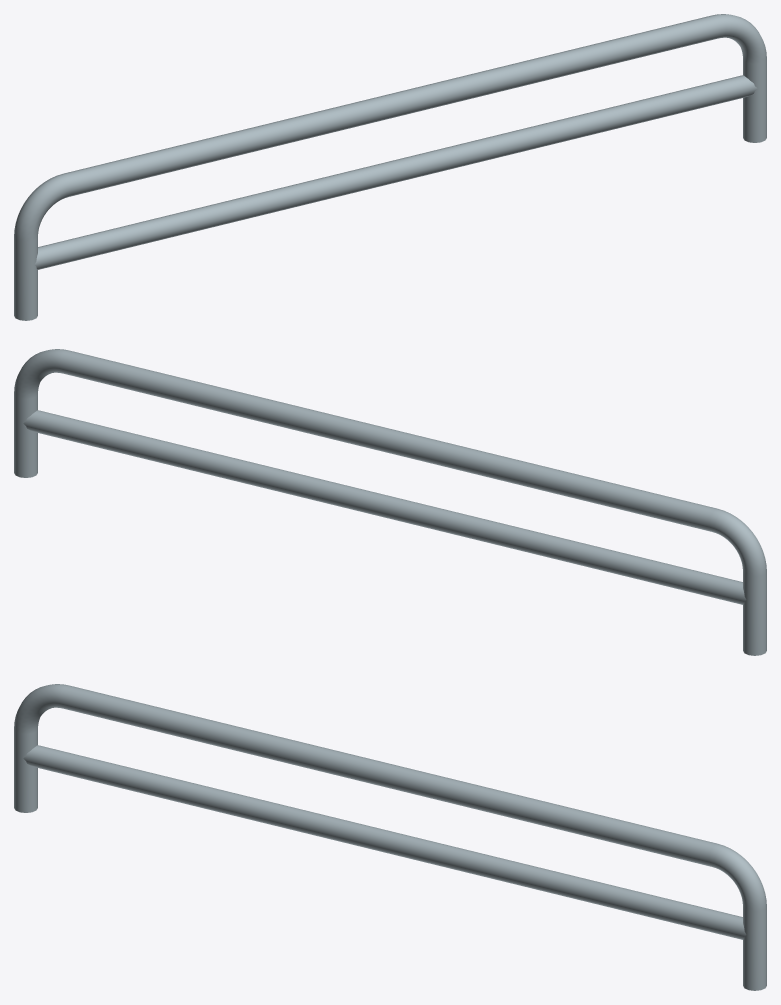
Rendered from barrierLarge-col.glb.
3 views of the same model, one above another, from view 1: azimuth 30°, elevation 25°; view 2: azimuth 150°, elevation 25°; view 3: azimuth 330°, elevation 25° (orthographic).
Visible parts, largest first — view 1: barrierLarge-col; view 2: barrierLarge-col; view 3: barrierLarge-col.
Boxes of the visible parts, x1,y1,x2,y2 form: barrierLarge-col: (14, 14, 766, 320); barrierLarge-col: (14, 349, 766, 655); barrierLarge-col: (14, 684, 766, 990).
Bounding box in the file's own units: 5.96 × 1 × 0.165.
